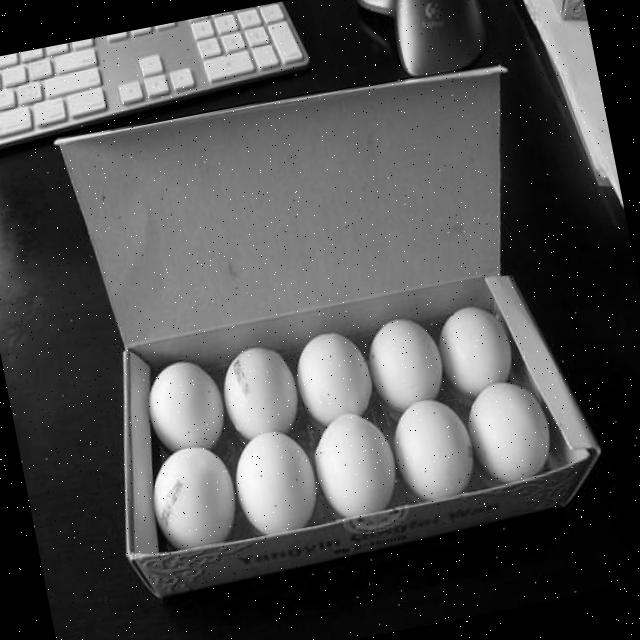ping-pong-ball: (145, 440, 244, 561), (228, 426, 324, 544), (308, 409, 402, 528), (386, 393, 482, 508), (462, 377, 558, 491), (140, 352, 232, 461), (216, 340, 308, 446), (291, 329, 379, 432), (361, 314, 450, 414), (432, 302, 518, 402)
